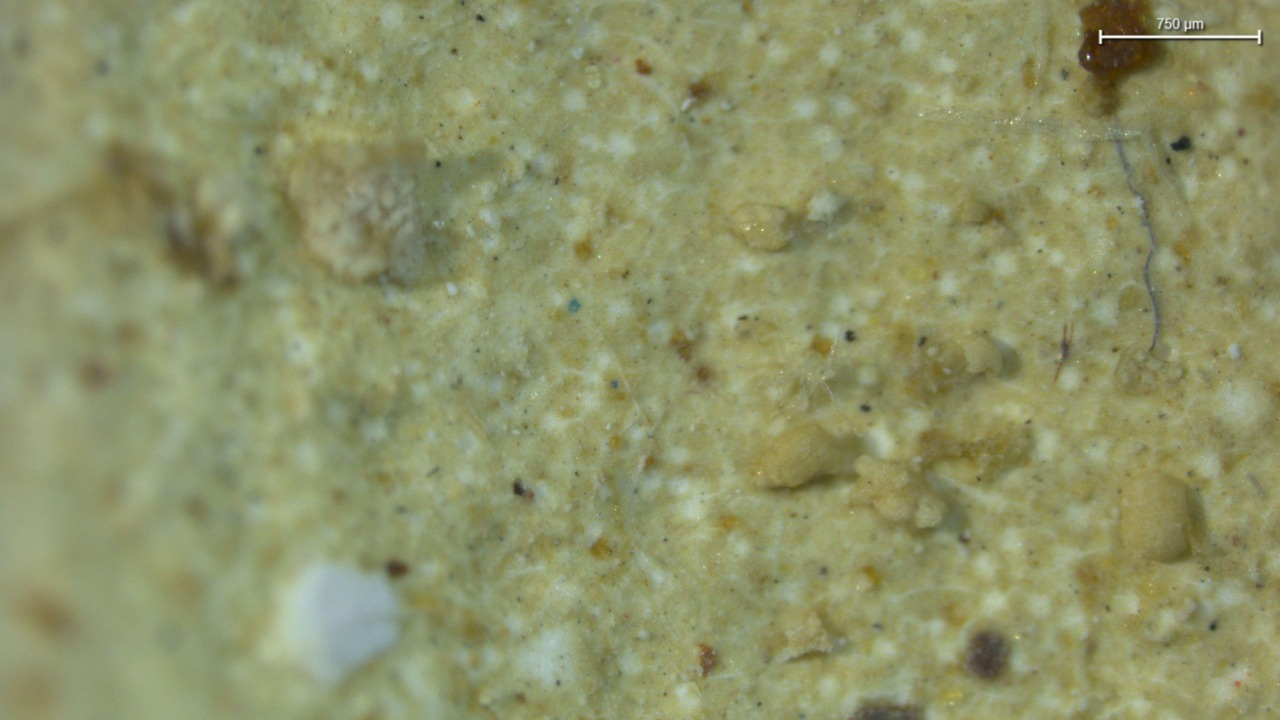microplastic_fragment: (306, 172, 430, 295), (1122, 461, 1193, 568), (853, 455, 951, 528), (742, 430, 857, 491), (733, 205, 790, 255), (966, 336, 997, 378), (809, 193, 846, 220)
